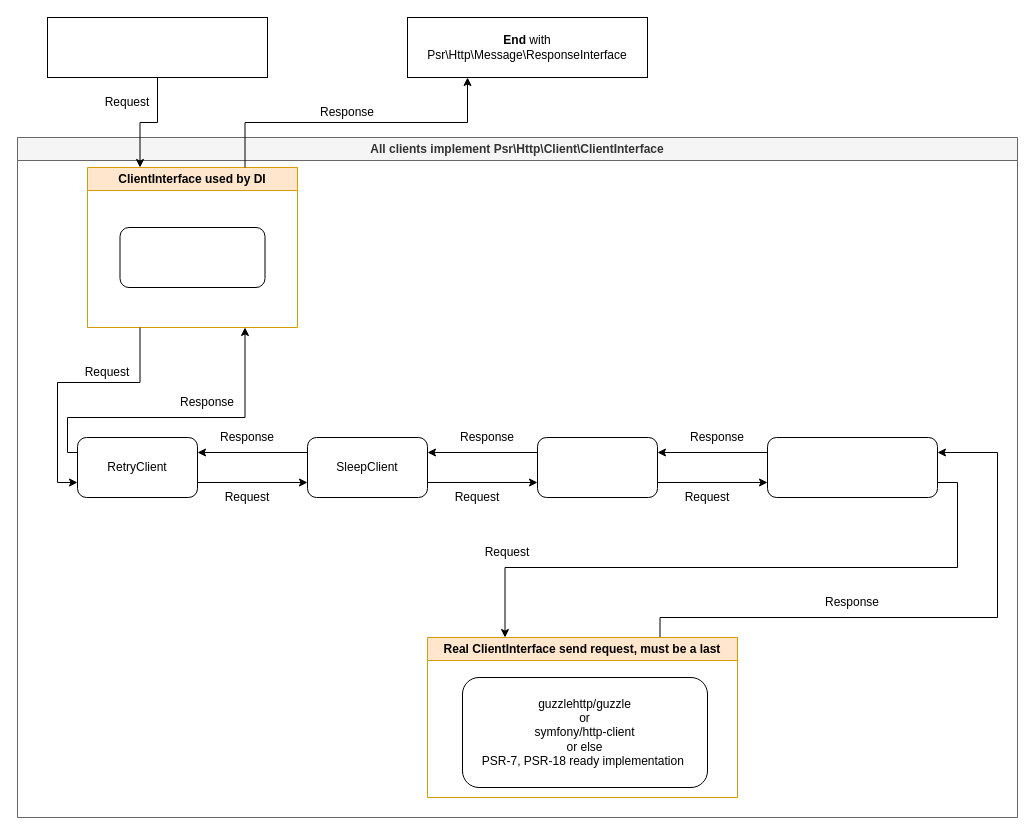
Image size: 1035x835. Some labels were removed from this diagram. Each missing label, with the centre of its shape:
"CacheResponseClient" belongs at [192,257].
"CustomizeRequestClient" belongs at [852,467].
"EventClient" belongs at [597,467].
"Start create Psr\Http\Message\RequestInterface" belongs at [157,47].
